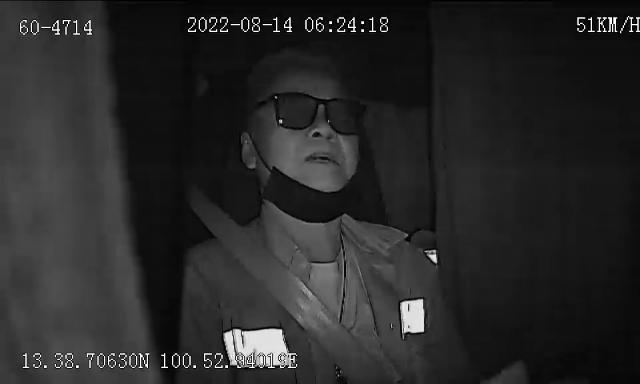Seatbelt: (189, 190, 393, 384)
